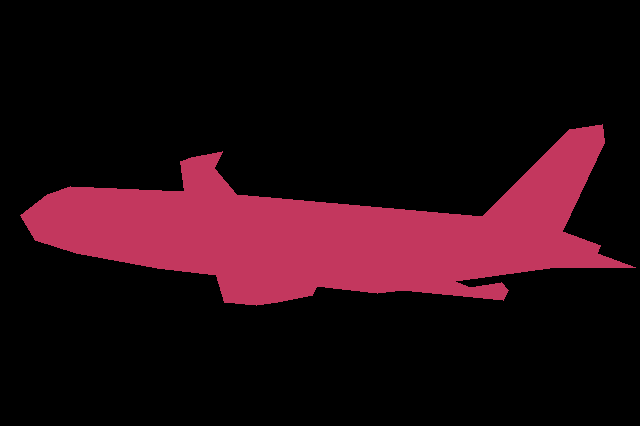Airplane: (20, 124, 636, 305)
